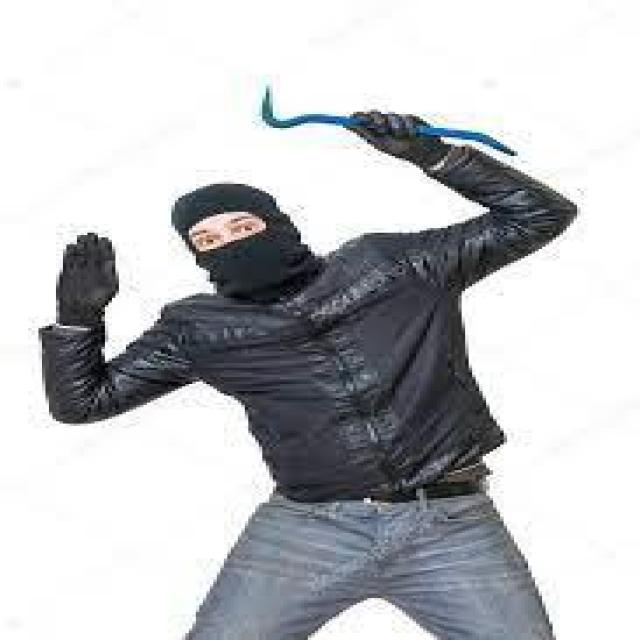6_pasamontana: (169, 182, 329, 302)
